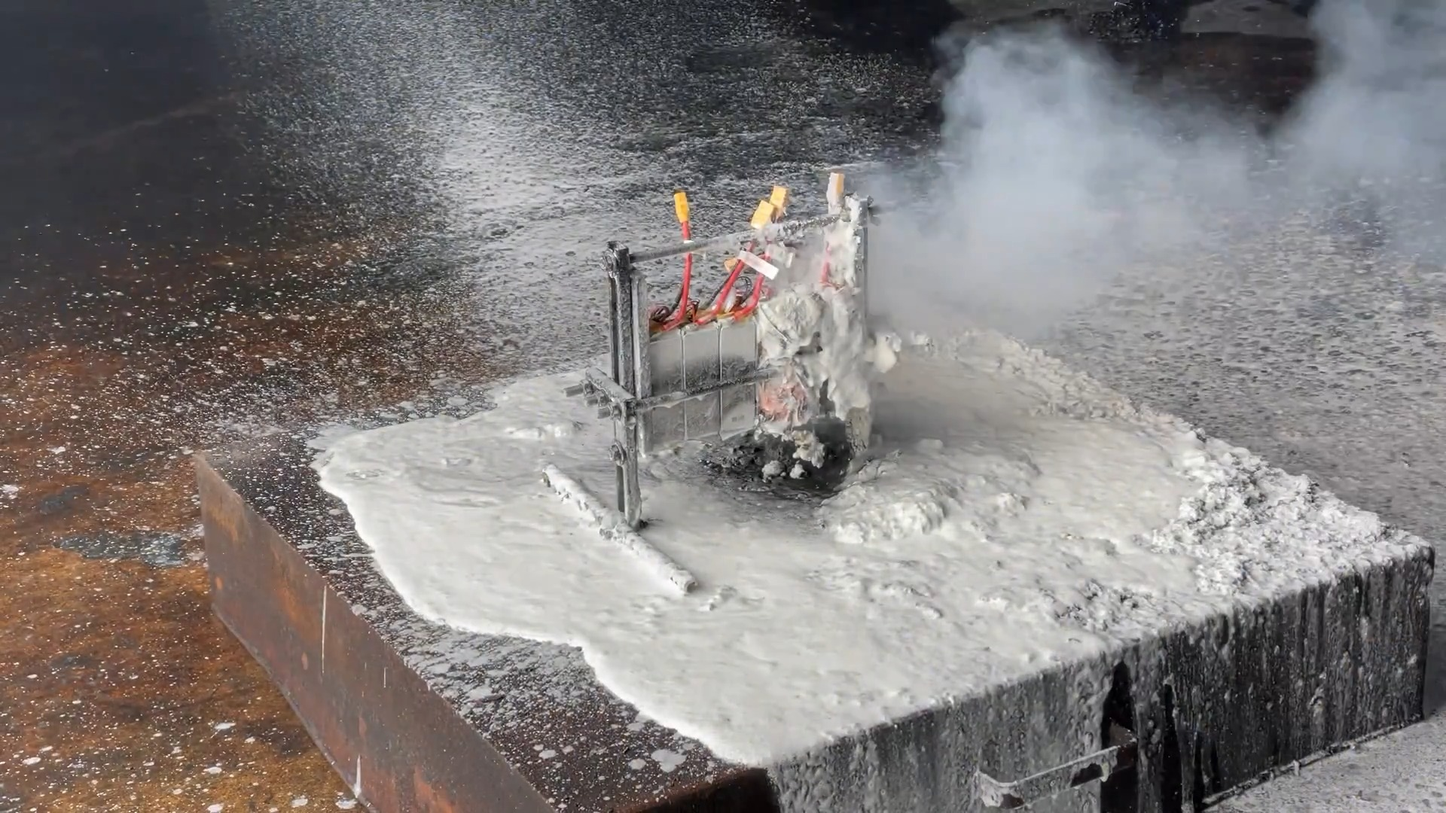smoke: (866, 1, 1445, 351)
